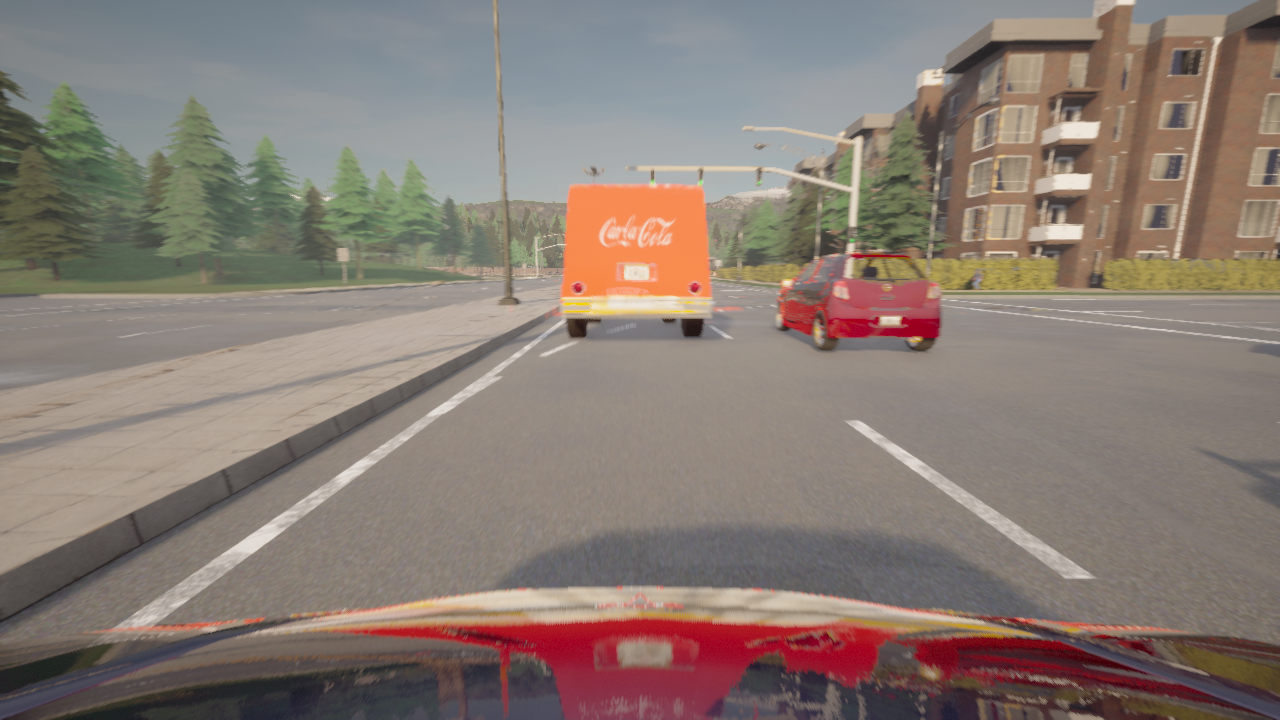cyclist: (0, 588, 1279, 719), (560, 185, 714, 338), (775, 253, 941, 351)
pedestrian: (973, 269, 982, 290)
